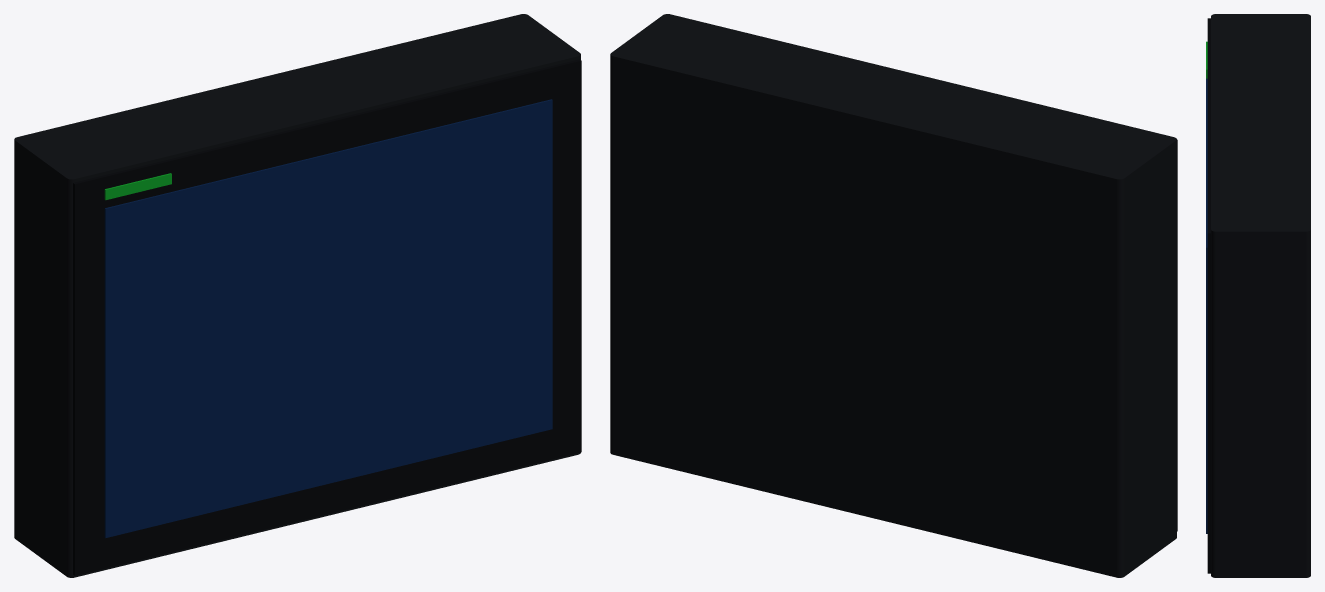
The model's file is hmi_panel.glb.
3 renders of one model, left to right at view 1: azimuth 30°, elevation 25°; view 2: azimuth 150°, elevation 25°; view 3: azimuth 270°, elevation 25°, orthographic. The views are drawn at different scales.
Visible parts, largest first — view 1: hmi; view 2: hmi; view 3: hmi.
Part boxes in pixels (<box>): hmi: <box>14,14,581,577</box>; hmi: <box>610,14,1177,577</box>; hmi: <box>1206,14,1310,577</box>.
Bounding box in the file's own units: 0.31 × 0.23 × 0.063.
